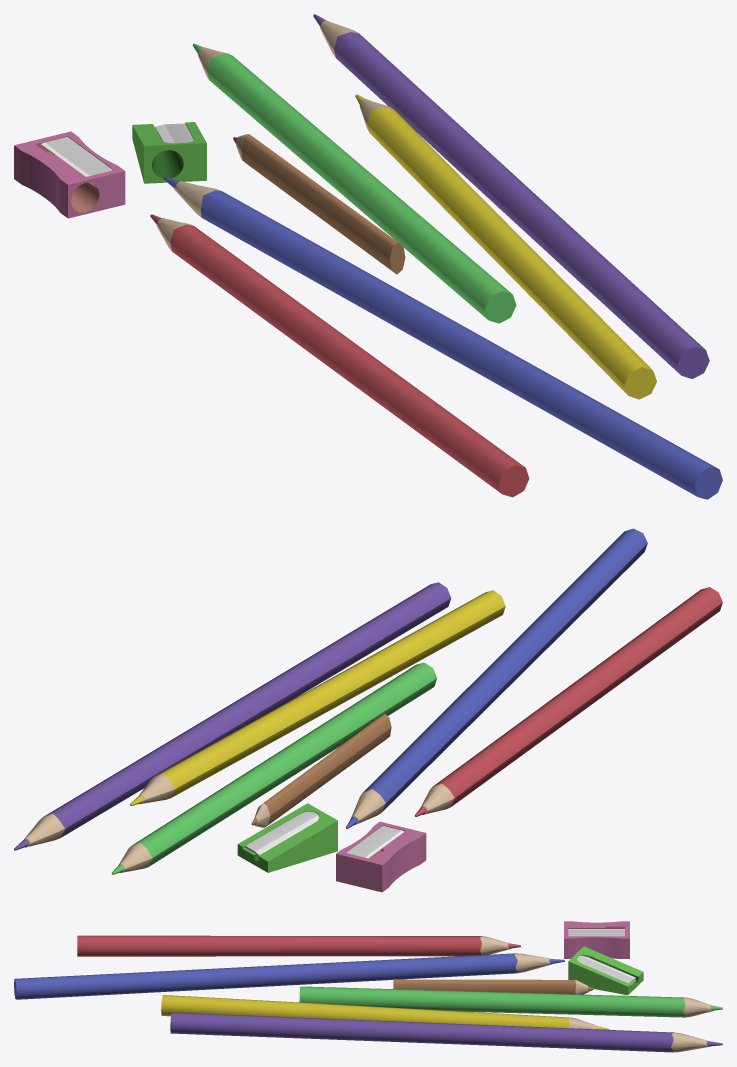
File: 색연필뭉텅이.fbx
3 views of the same model, one above another, from view 1: azimuth 30°, elevation 25°; view 2: azimuth 150°, elevation 25°; view 3: azimuth 270°, elevation 25° (orthographic). The views are drawn at different scales.
Visible parts, largest first — view 1: pencil_blue.002, pencil_blue.003, pencil_blue.004, pencil_blue, pencil_blue.001, sharpener_plastic, pencil_blue.005, sharpener_metal; view 2: pencil_blue.003, pencil_blue, pencil_blue.002, pencil_blue.004, pencil_blue.001, sharpener_plastic, sharpener_metal, pencil_blue.005; view 3: pencil_blue.003, pencil_blue.002, pencil_blue.004, pencil_blue.001, pencil_blue, pencil_blue.005, sharpener_metal, sharpener_plastic.
Part boxes in pixels (x1,y1,x2,y2): pencil_blue.002: (163, 176, 722, 499); pencil_blue.003: (313, 14, 709, 378); pencil_blue.004: (150, 214, 529, 497); pencil_blue: (355, 94, 656, 399); pencil_blue.001: (192, 43, 516, 323); sharpener_plastic: (14, 131, 125, 218); pencil_blue.005: (233, 134, 405, 274); sharpener_metal: (132, 122, 206, 183); pencil_blue.003: (14, 582, 451, 850); pencil_blue: (130, 590, 505, 805); pencil_blue.002: (346, 528, 647, 828); pencil_blue.004: (415, 587, 722, 816); pencil_blue.001: (111, 662, 436, 874); sharpener_plastic: (336, 821, 426, 892); sharpener_metal: (237, 803, 337, 872); pencil_blue.005: (251, 713, 391, 827); pencil_blue.003: (170, 1012, 722, 1052); pencil_blue.002: (14, 953, 564, 999); pencil_blue.004: (77, 935, 520, 956); pencil_blue.001: (299, 986, 722, 1017); pencil_blue: (161, 995, 609, 1029); pencil_blue.005: (393, 979, 593, 994); sharpener_metal: (568, 946, 643, 995); sharpener_plastic: (564, 921, 629, 958).
Size of the model in its own units: 817 by 78.16 by 2134.
